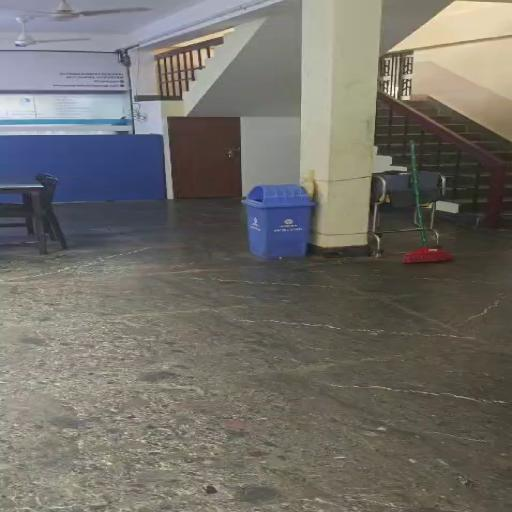Nilkamal-dustbin-detection: (242, 184, 321, 260)
